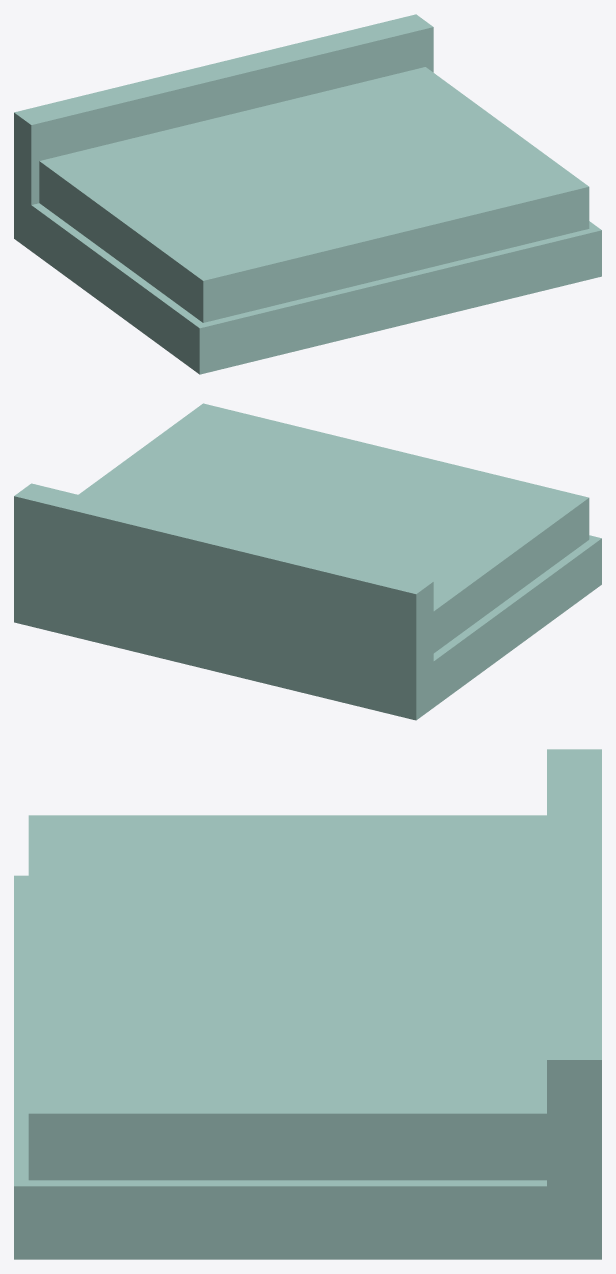
Rendered from bed.glb.
The picture shows the model from 3 angles, top to bottom: view 1: azimuth 30°, elevation 25°; view 2: azimuth 150°, elevation 25°; view 3: azimuth 270°, elevation 25°; orthographic projection. The views are drawn at different scales.
Size of the model in its own units: 2 by 0.6 by 1.6.
